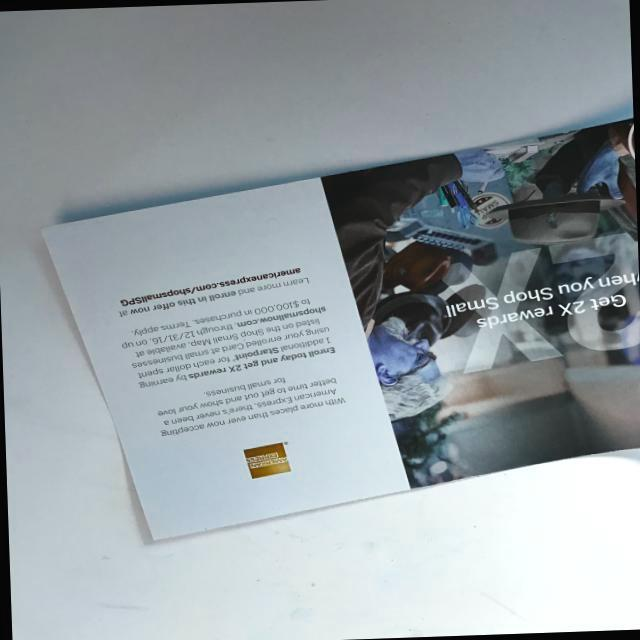paper: (35, 113, 640, 548)
